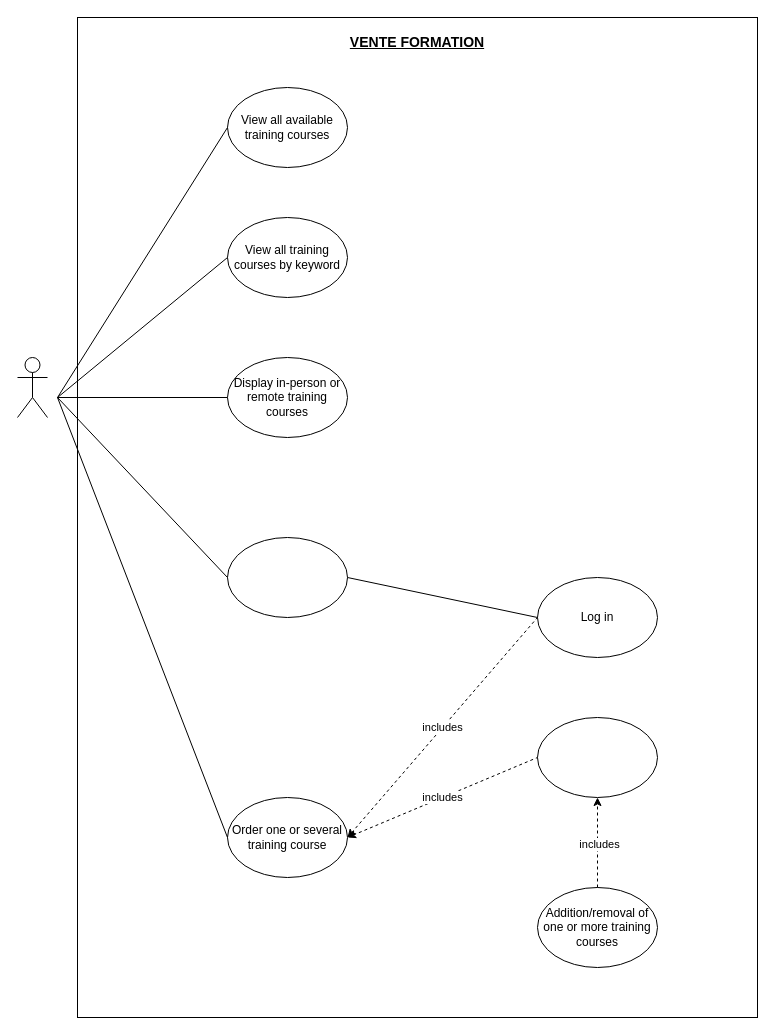
Some shapes in this 775 by 1035 pixel diagram are drawn without their labels. The box of each missing label's shape, as (x1, y1, x2, y2) in pixels:
Add to cart: (536, 716, 658, 798)
Create his profile: (226, 536, 348, 618)
user: (16, 356, 48, 418)
